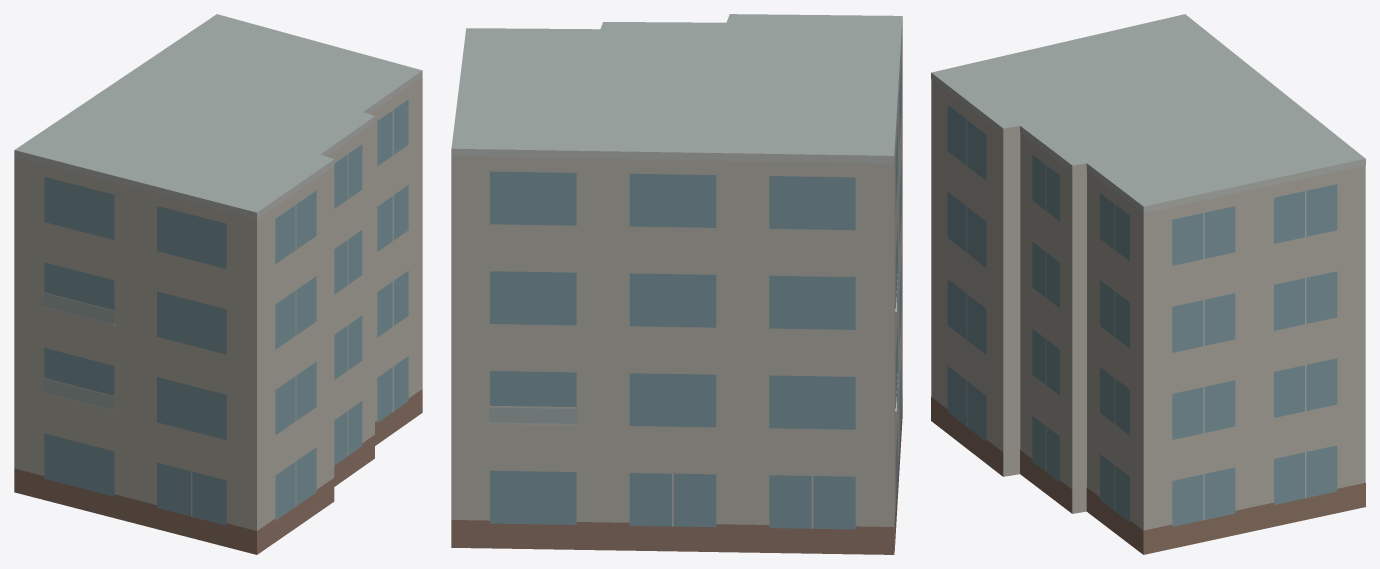
File: survey-upis-32995199.glb
3 renders of one model, left to right at view 1: azimuth 30°, elevation 25°; view 2: azimuth 150°, elevation 25°; view 3: azimuth 270°, elevation 25°, orthographic. The views are drawn at different scales.
Visible parts, largest first — view 1: survey-upis-32995199.tmp; view 2: survey-upis-32995199.tmp; view 3: survey-upis-32995199.tmp.
Part boxes in pixels (box(x1,y1,x2,y2)): survey-upis-32995199.tmp: box(14, 14, 422, 554); survey-upis-32995199.tmp: box(451, 14, 902, 554); survey-upis-32995199.tmp: box(931, 14, 1365, 554).
Size of the model in its own units: 15.19 by 12.8 by 14.48.
